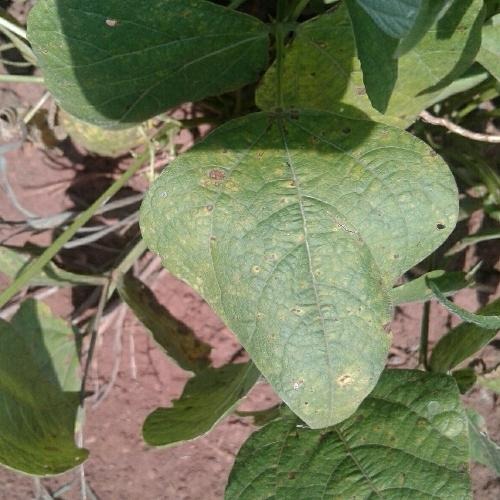embun tepung: (288, 360, 370, 408)
hawar: (201, 164, 228, 197), (370, 316, 396, 336), (428, 217, 447, 237), (288, 299, 306, 320)
mozaik: (236, 134, 416, 274)
